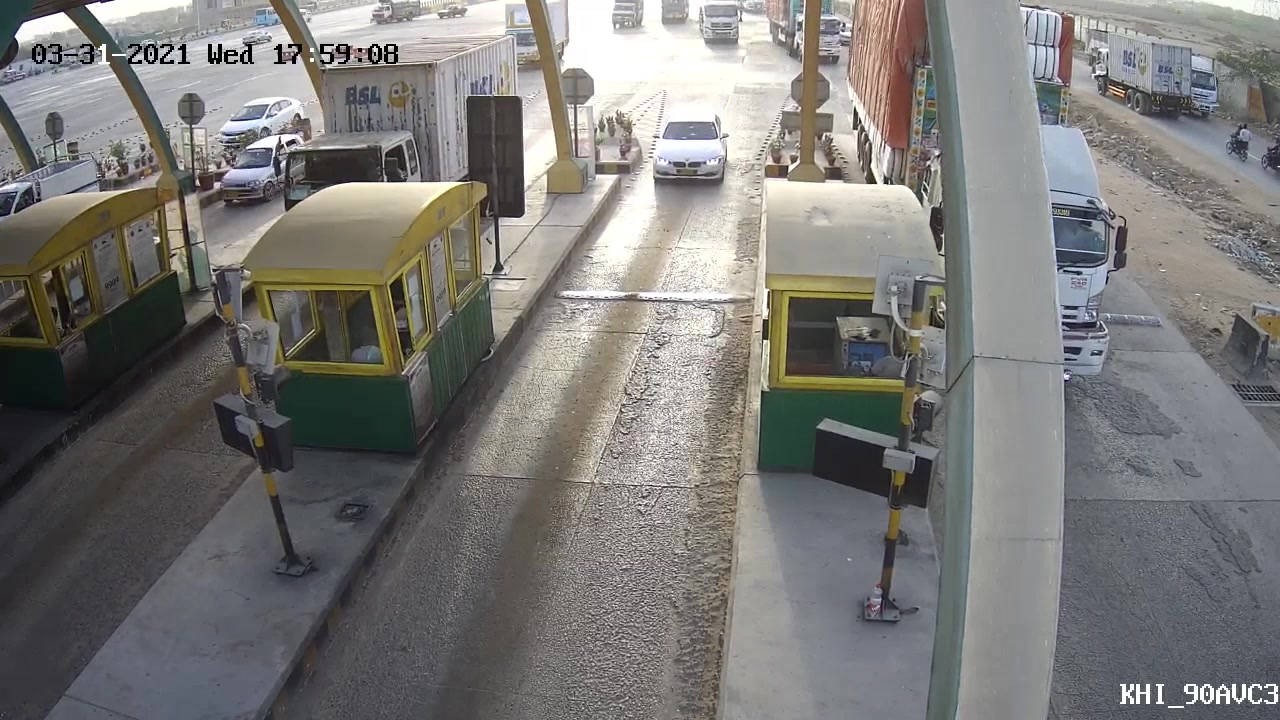F1: (643, 109, 736, 195)
